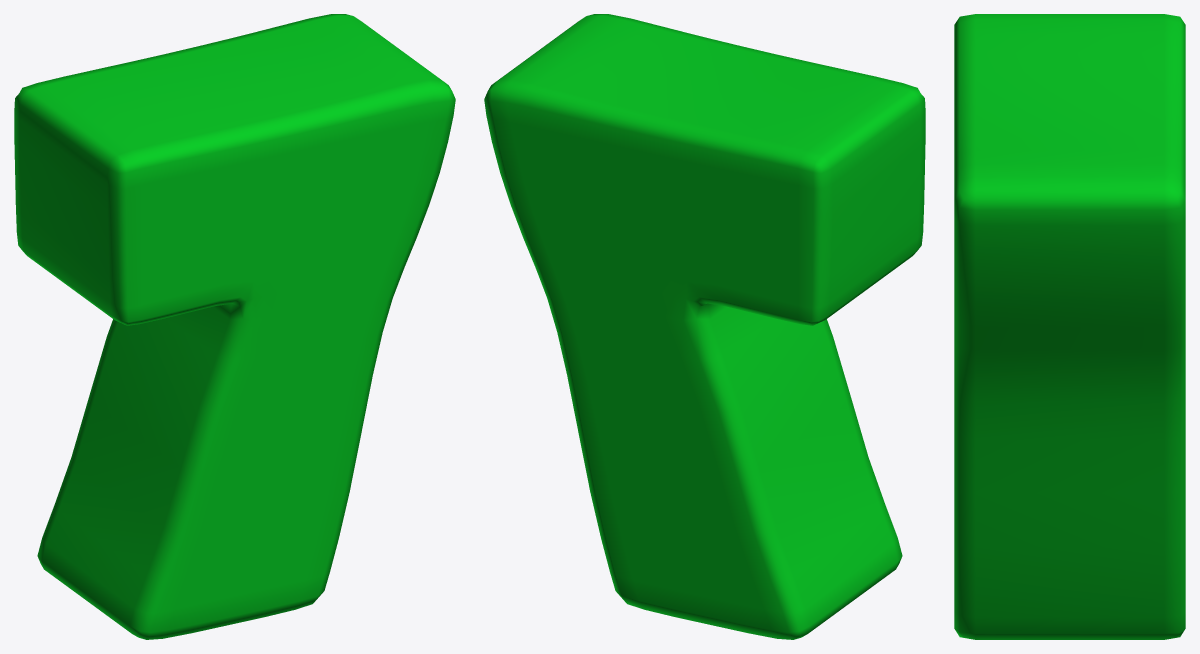
The picture shows the model from 3 angles, left to right: view 1: azimuth 30°, elevation 25°; view 2: azimuth 150°, elevation 25°; view 3: azimuth 270°, elevation 25°; orthographic projection. The views are drawn at different scales.
Visible parts, largest first — view 1: A:Mesh7_numbers_0; view 2: A:Mesh7_numbers_0; view 3: A:Mesh7_numbers_0.
Boxes of the visible parts, x1,y1,x2,y2 form: A:Mesh7_numbers_0: (14, 14, 455, 639); A:Mesh7_numbers_0: (484, 14, 925, 639); A:Mesh7_numbers_0: (954, 14, 1185, 639).
Bounding box in the file's own units: 24.94 × 34.33 × 13.53.
